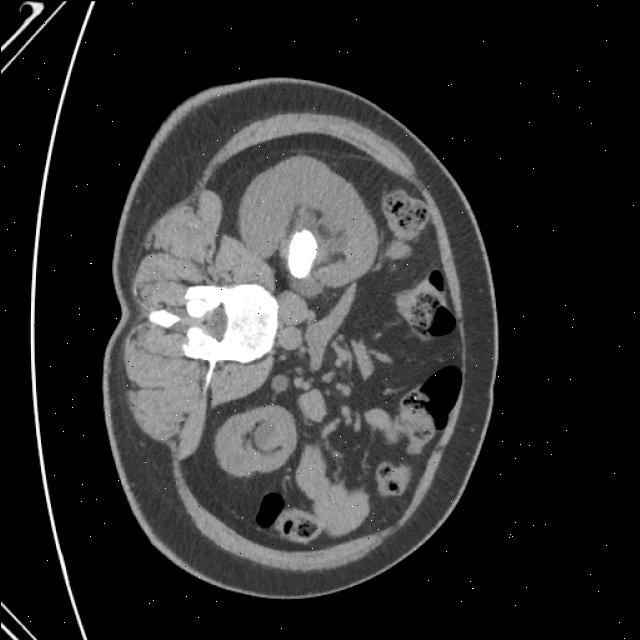kidneystone: (287, 231, 316, 278)
